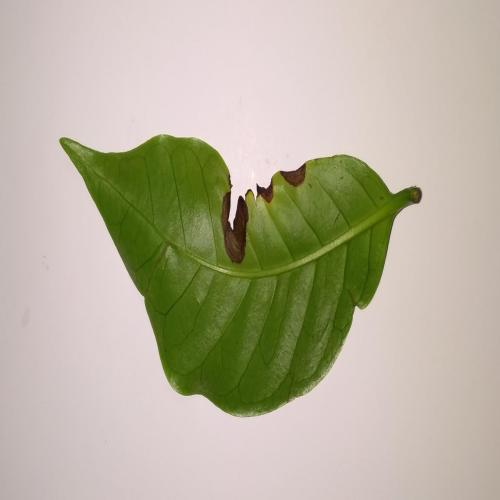miner: (279, 162, 308, 187)
